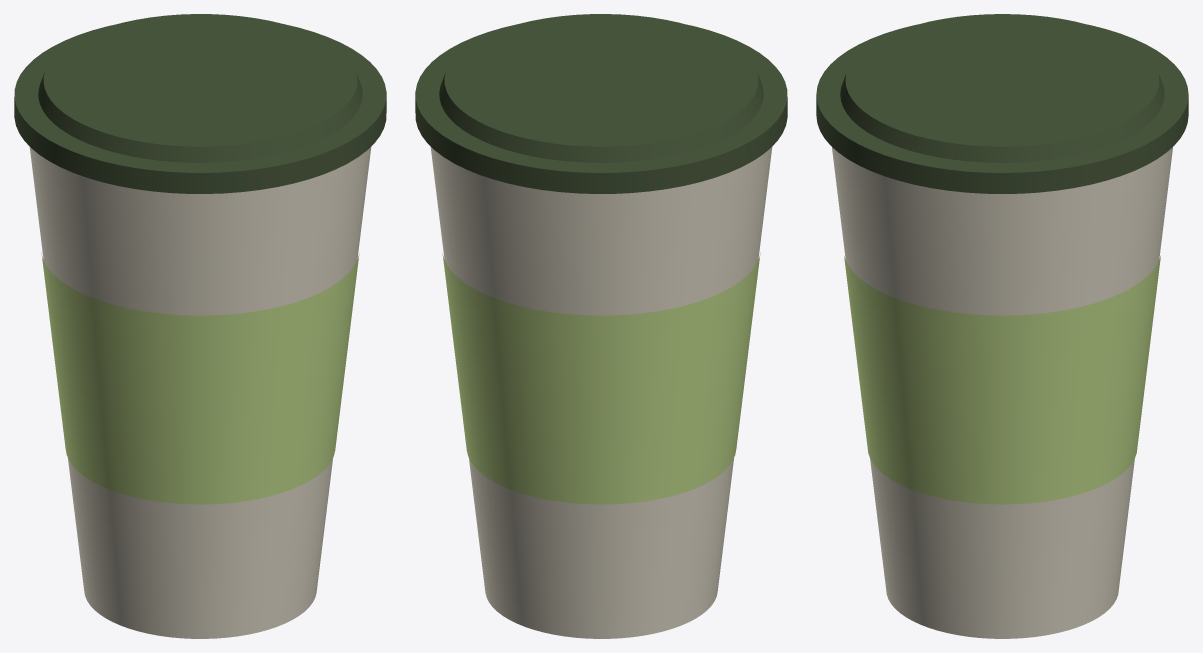
File: cup_16oz.glb
The picture shows the model from 3 angles, left to right: view 1: azimuth 30°, elevation 25°; view 2: azimuth 150°, elevation 25°; view 3: azimuth 270°, elevation 25°; orthographic projection.
Parts seen in each view (by area): view 1: cup_16oz; view 2: cup_16oz; view 3: cup_16oz.
Boxes of the visible parts, left/top/right/bottom form: cup_16oz: left=14, top=14, right=386, bottom=638; cup_16oz: left=415, top=14, right=787, bottom=638; cup_16oz: left=816, top=14, right=1188, bottom=638.
Bounding box in the file's own units: 0.096 × 0.145 × 0.096.
